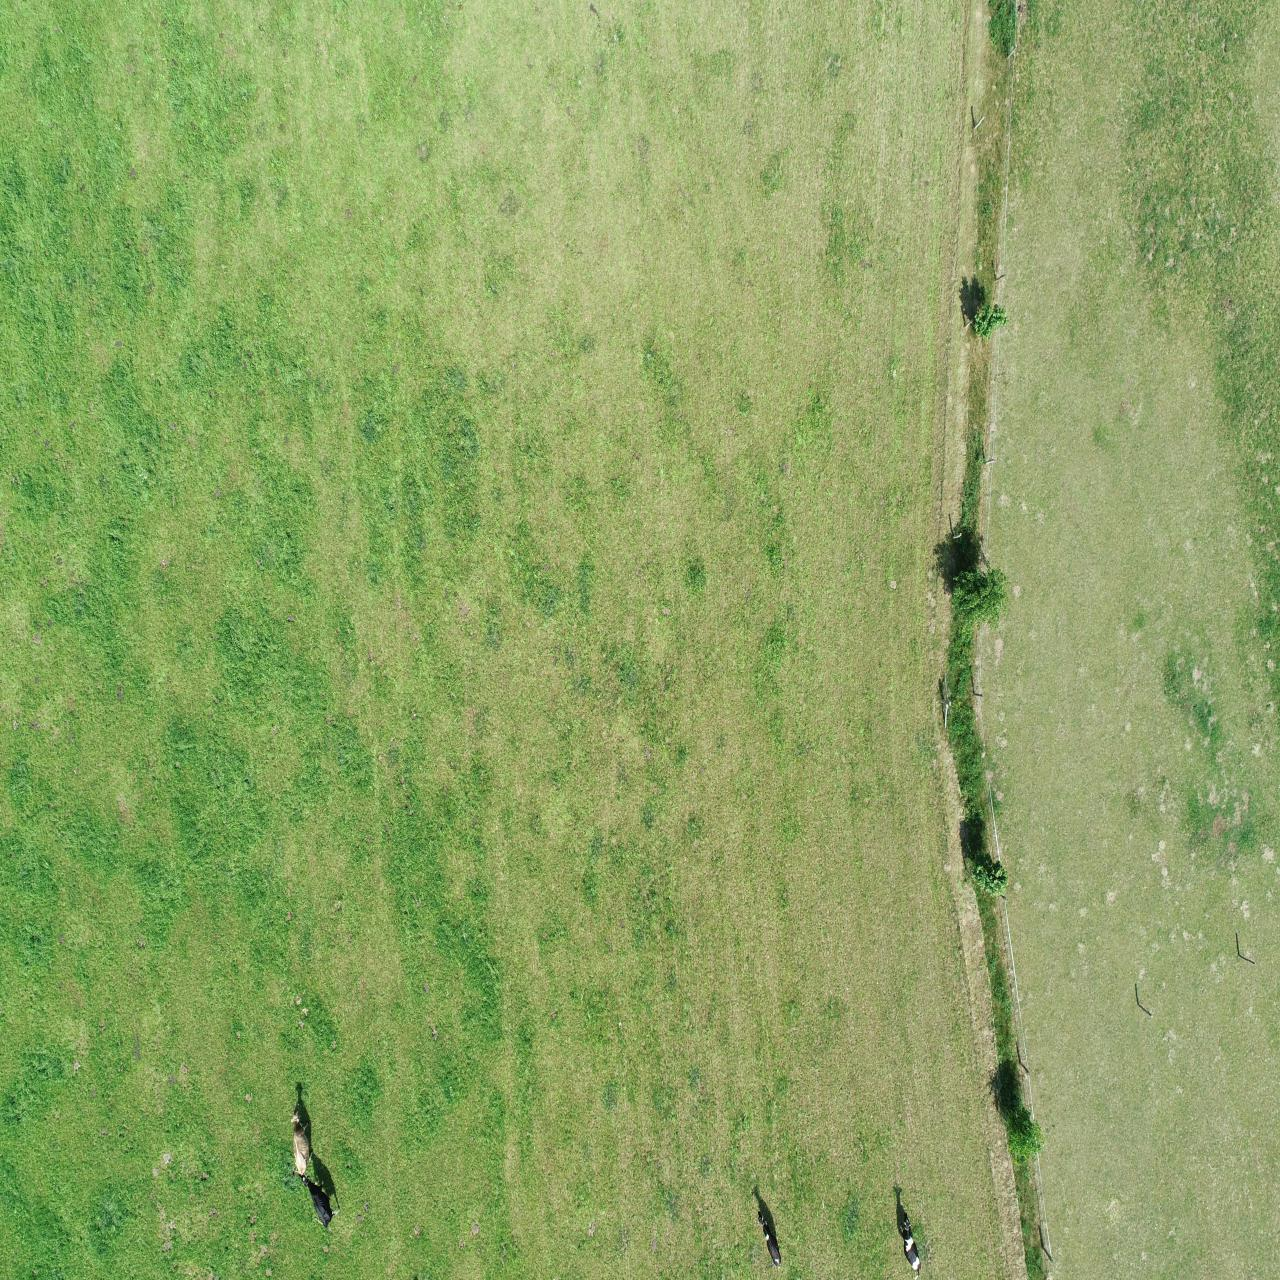cow: (300, 1173, 341, 1230), (290, 1102, 316, 1177), (897, 1210, 925, 1280), (754, 1208, 783, 1268)
